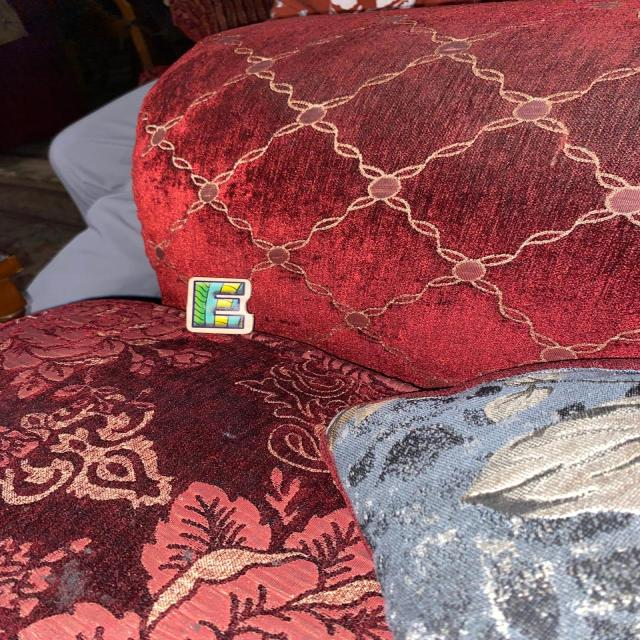E: (187, 277, 253, 335)
